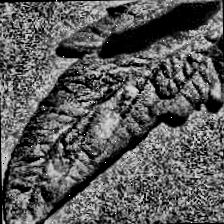leaf mold: (0, 24, 224, 224)
